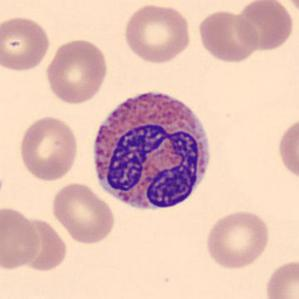Eosinophil: (86, 79, 218, 221)
RBC: (43, 36, 110, 106), (121, 2, 194, 65), (16, 114, 80, 183), (202, 208, 272, 270), (50, 181, 116, 246), (195, 8, 261, 64), (231, 0, 296, 53), (0, 13, 52, 73), (14, 218, 68, 273), (0, 204, 43, 272), (276, 114, 298, 183), (262, 258, 298, 299), (280, 0, 299, 19)
